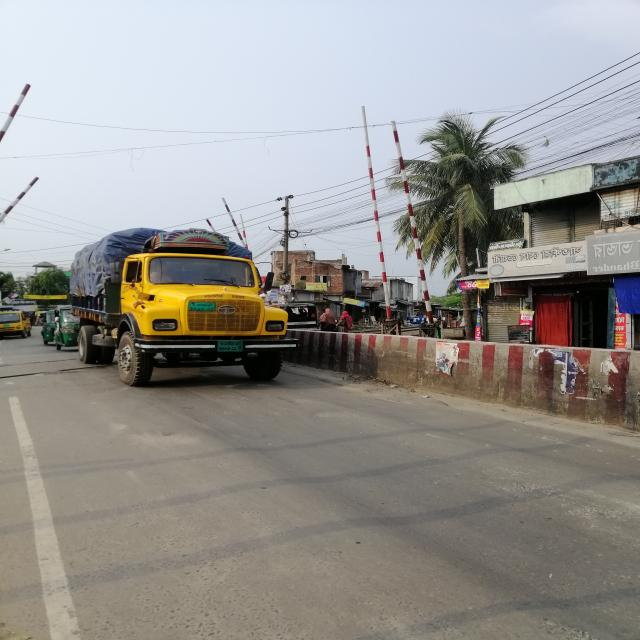Truck: (69, 222, 320, 400)
